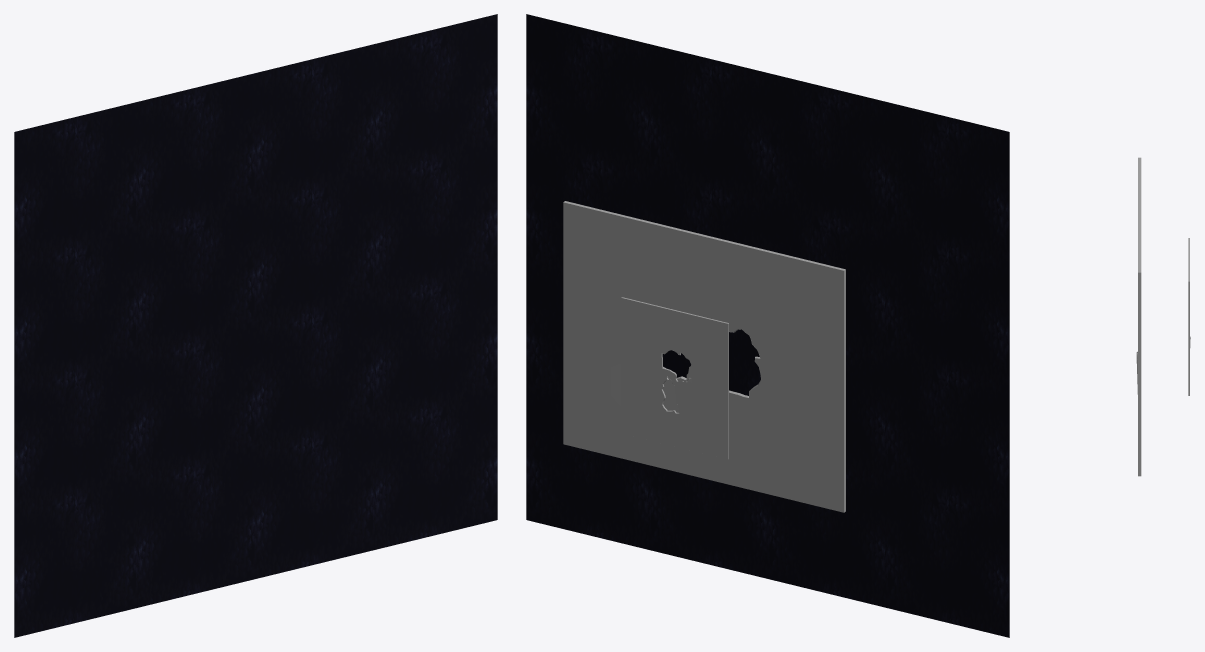
The model's file is Room_Transition_BG.fbx.
The picture shows the model from 3 angles, left to right: view 1: azimuth 30°, elevation 25°; view 2: azimuth 150°, elevation 25°; view 3: azimuth 270°, elevation 25°; orthographic projection. The views are drawn at different scales.
Visible parts, largest first — view 1: pPlane2; view 2: pPlane2; view 3: pPlane2.
Part boxes in pixels (x1,y1,x2,y2): pPlane2: (14, 14, 497, 637); pPlane2: (526, 14, 1009, 637); pPlane2: (1136, 157, 1190, 476).
Size of the model in its own units: 495 by 495 by 160.
Materials: 3 (1 with a texture image).
